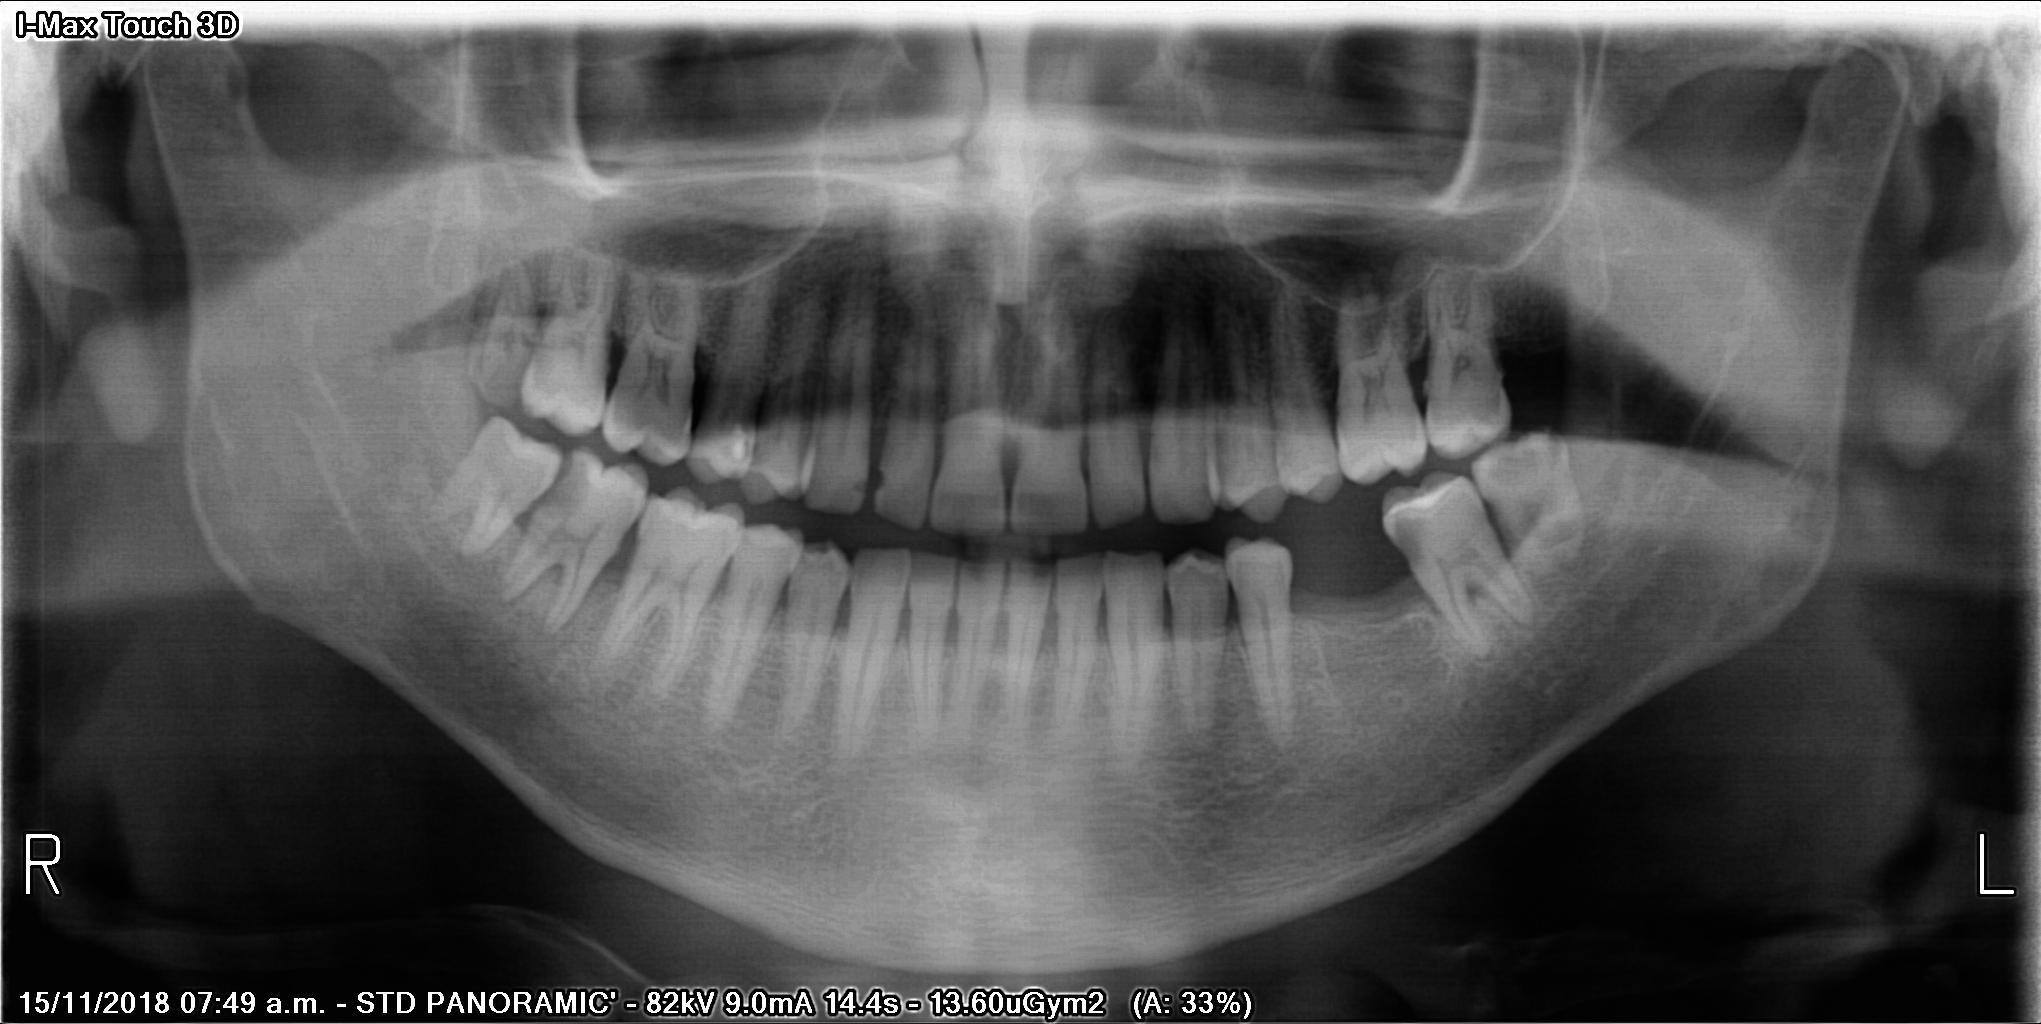Çürük Bölgesi: (528, 451, 586, 525), (1382, 499, 1425, 580), (853, 474, 876, 503), (880, 460, 892, 495)
